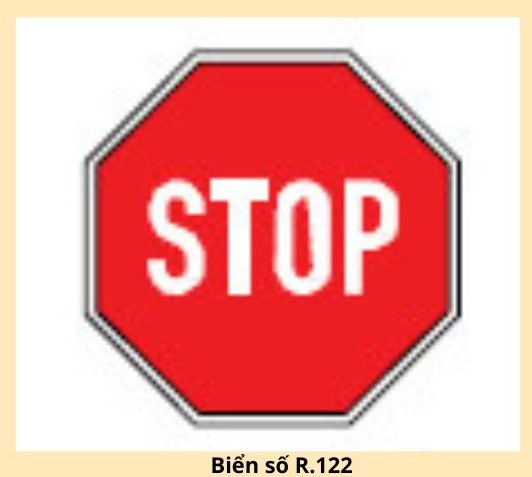Stop: (74, 42, 475, 434)
